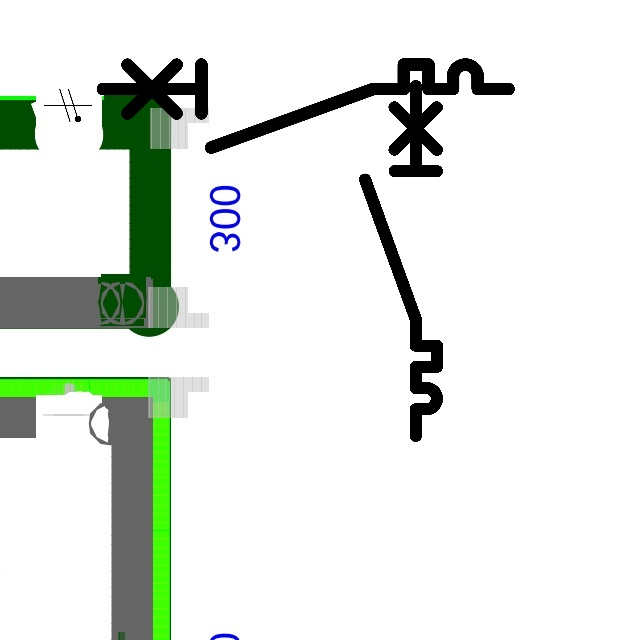interruptor_termomagnetico: (92, 54, 518, 158), (356, 77, 446, 445)
